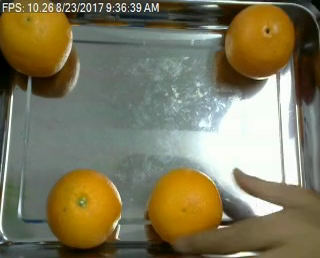Orange: (47, 168, 123, 250), (147, 169, 224, 245), (224, 4, 297, 79), (1, 13, 74, 77)
